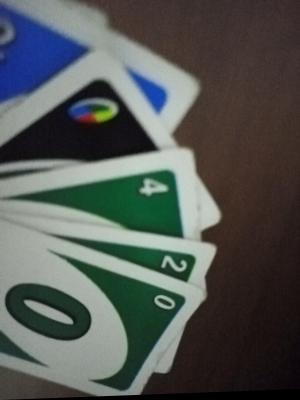blue: (2, 15, 37, 112)
num_0: (0, 269, 95, 369), (144, 295, 179, 320)
num_2: (150, 256, 191, 283)
num_4: (130, 174, 174, 209)
wild: (59, 90, 131, 140)
